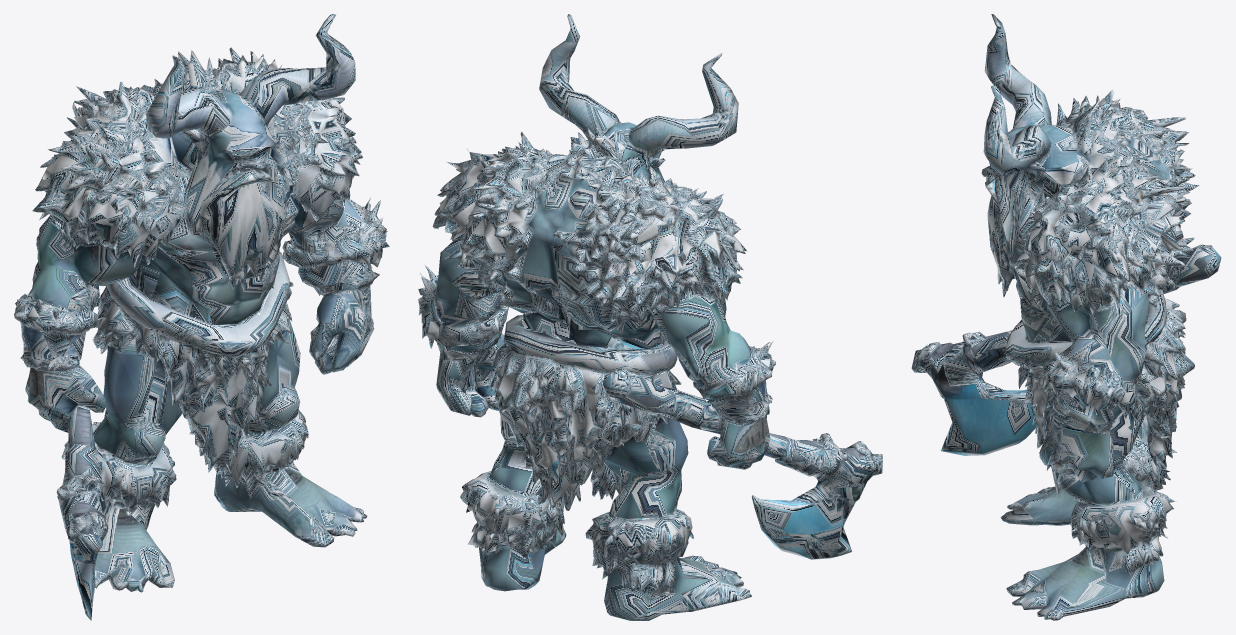
File: frost-giant.glb
The picture shows the model from 3 angles, left to right: view 1: azimuth 30°, elevation 25°; view 2: azimuth 150°, elevation 25°; view 3: azimuth 270°, elevation 25°; orthographic projection. The views are drawn at different scales.
Bounding box in the file's own units: 1.54 × 2 × 1.11.
1 material, 1 textured.
